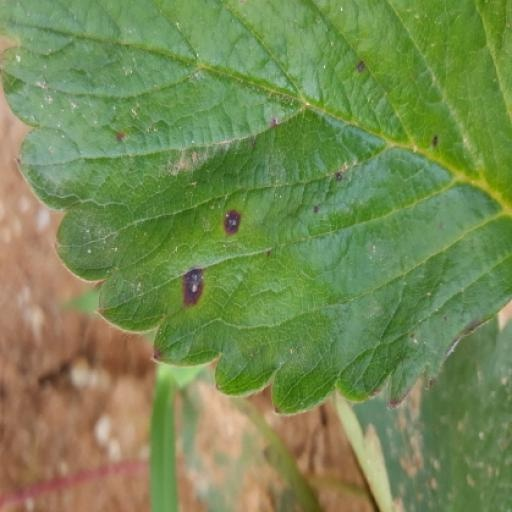Leaf Spot: (0, 96, 511, 511)
